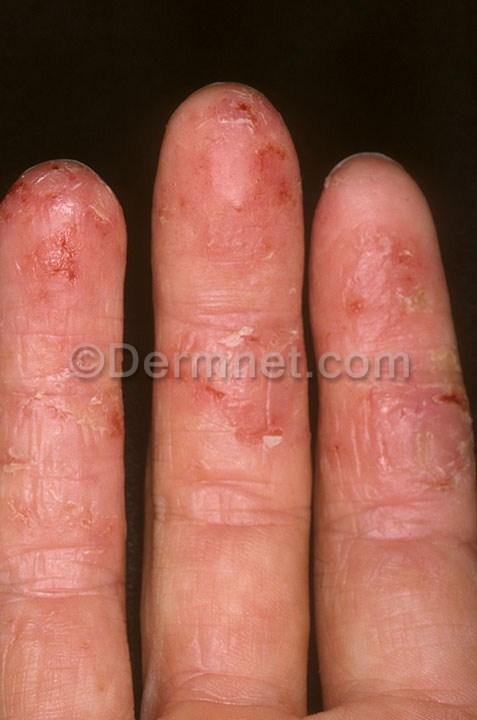Eczema: (178, 69, 300, 281), (0, 383, 125, 539), (0, 156, 127, 305), (169, 383, 306, 518), (339, 386, 477, 516), (328, 206, 444, 349)
